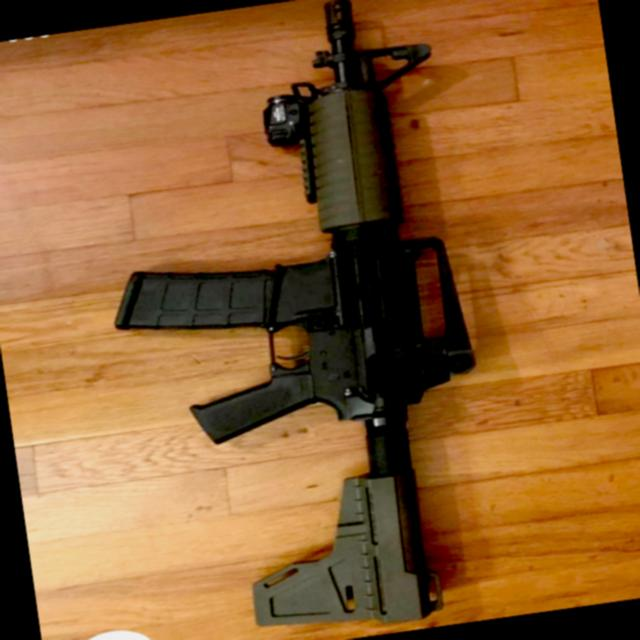m16: (106, 0, 554, 640)
